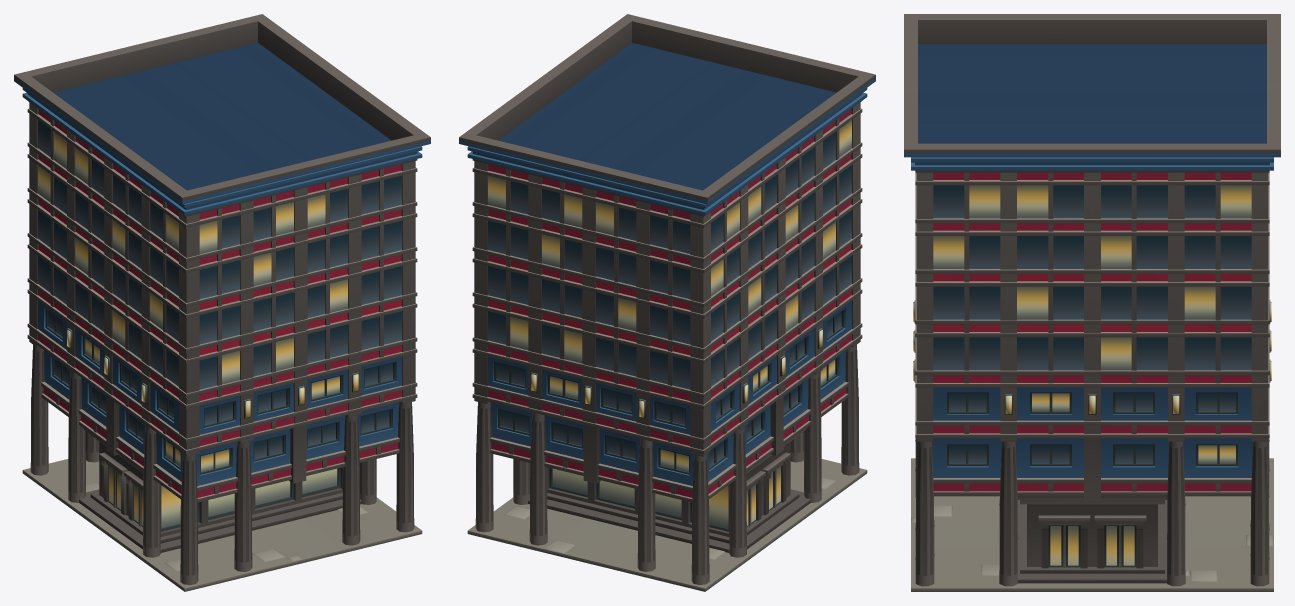
Rendered from Building_13C.fbx.
3 views of the same model, side by side, from view 1: azimuth 30°, elevation 25°; view 2: azimuth 150°, elevation 25°; view 3: azimuth 270°, elevation 25° (orthographic). The views are drawn at different scales.
Visible parts, largest first — view 1: Building_13C, Window_Lights_13C; view 2: Building_13C, Window_Lights_13C; view 3: Building_13C, Window_Lights_13C.
Boxes of the visible parts, x1,y1,x2,y2 form: Building_13C: (14,14,430,591); Window_Lights_13C: (38,132,347,528); Building_13C: (459,14,875,591); Window_Lights_13C: (488,120,851,528); Building_13C: (904,14,1280,591); Window_Lights_13C: (933,185,1251,565).
Bounding box in the file's own units: 23 × 35.2 × 27.
